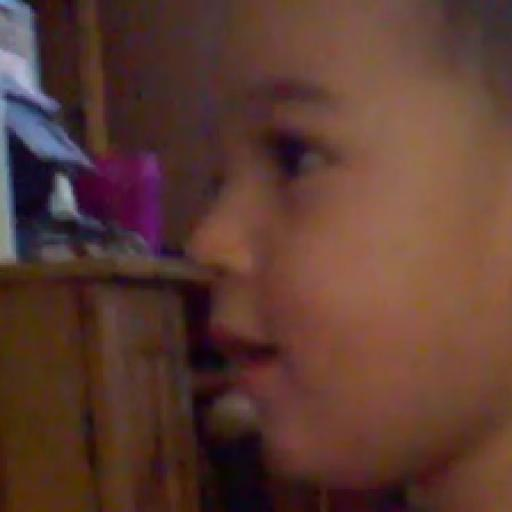Autism: (203, 22, 512, 508)
